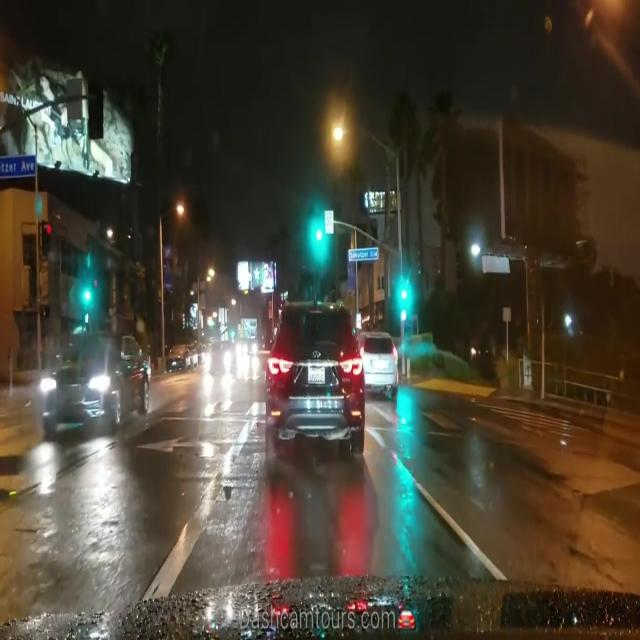Car: (265, 295, 366, 453), (45, 333, 147, 441), (360, 333, 397, 396)
